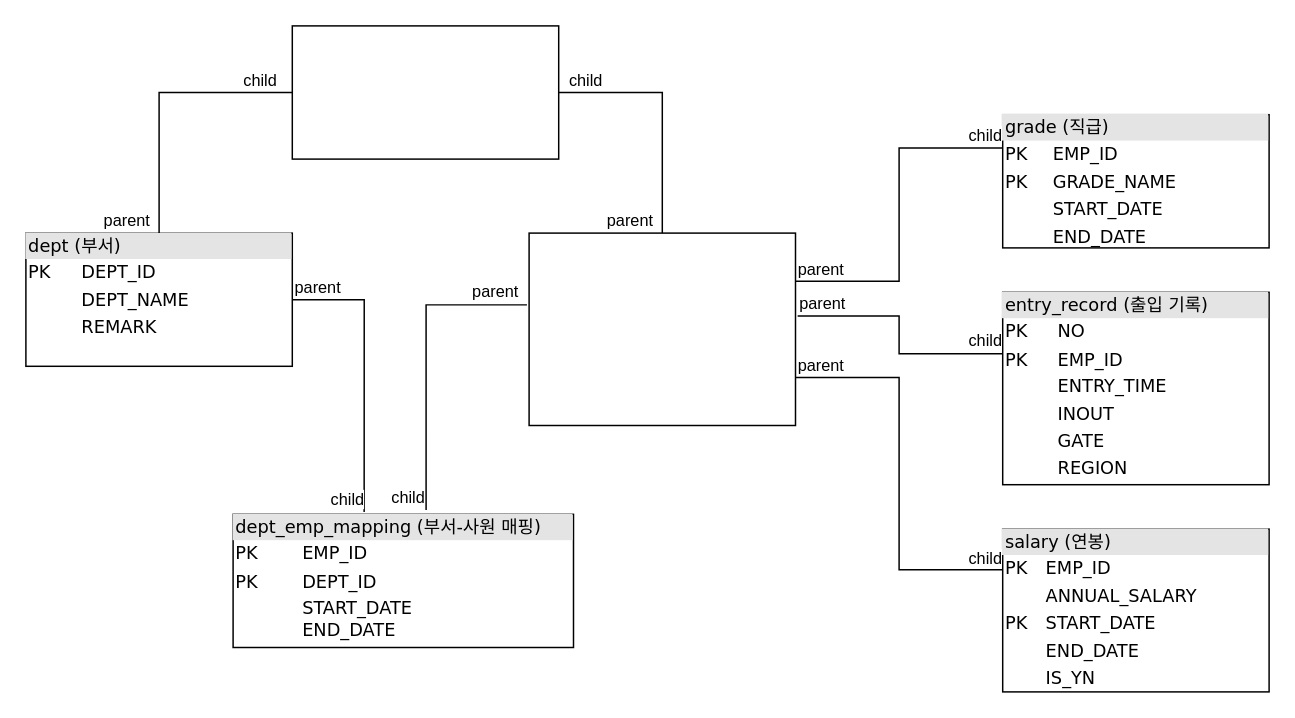
Image size: 1295x718. Some labels were removed from this diagram. The centre of each missing label's shape, as x and y in pixels:
emp (사원) PK EMP_ID BIRTH FIRST_NAME LAST_NAME GENDER HIRE_DATE: pixel 662 329
manager (관리자) PK EMP_ID PK DEPT_ID START_DATE END_DATE: pixel 425 91
